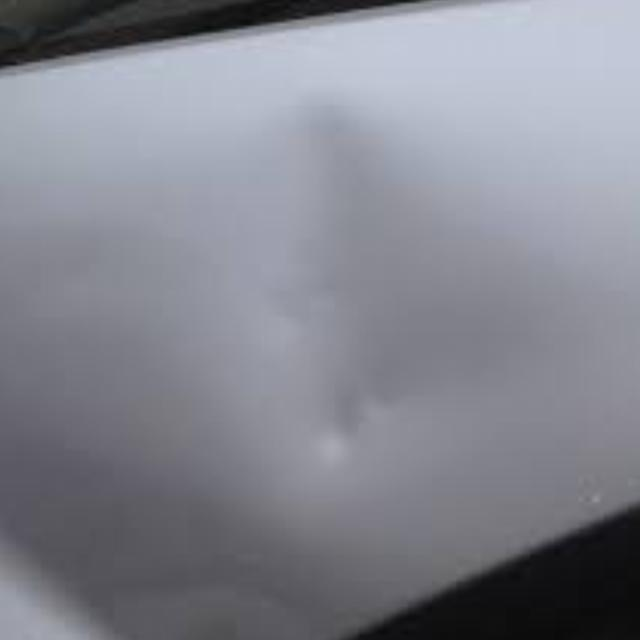dents: (238, 110, 376, 341), (298, 393, 394, 492)
